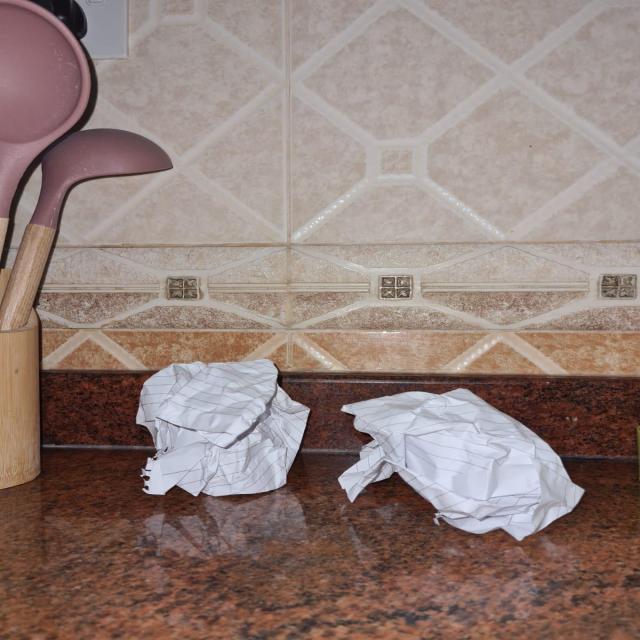trash: (336, 382, 586, 536), (136, 360, 308, 498)
